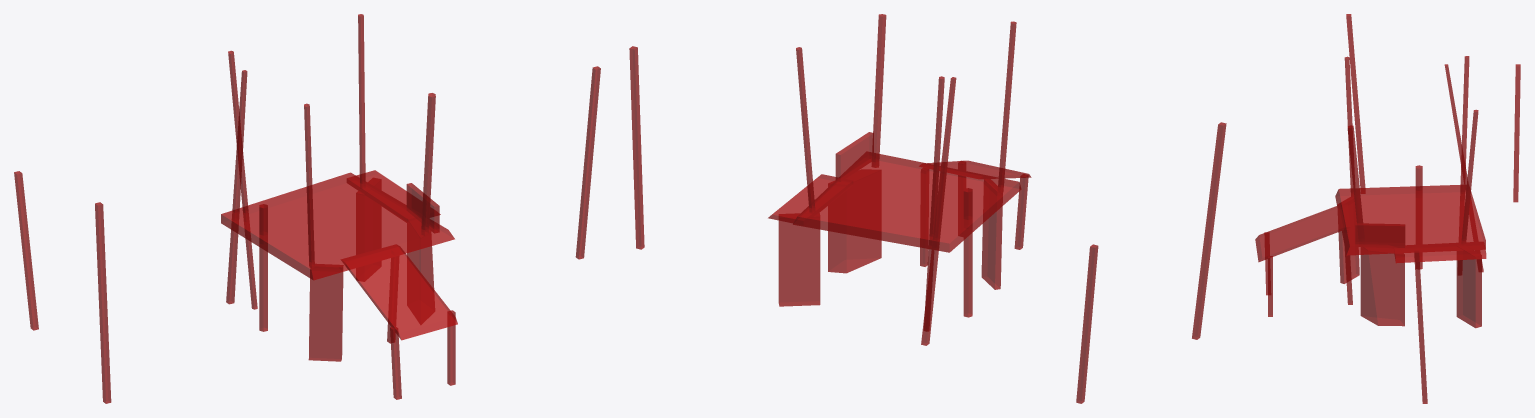
The model's file is SM_Bld_Camp_Tent_05_Collision.fbx.
The picture shows the model from 3 angles, left to right: view 1: azimuth 30°, elevation 25°; view 2: azimuth 150°, elevation 25°; view 3: azimuth 270°, elevation 25°; orthographic projection. The views are drawn at different scales.
Visible parts, largest first — view 1: SM_Bld_Camp_Tent_05_Collision; view 2: SM_Bld_Camp_Tent_05_Collision; view 3: SM_Bld_Camp_Tent_05_Collision.
Boxes of the visible parts, x1,y1,x2,y2 form: SM_Bld_Camp_Tent_05_Collision: [14, 14, 600, 403]; SM_Bld_Camp_Tent_05_Collision: [629, 14, 1226, 403]; SM_Bld_Camp_Tent_05_Collision: [1255, 14, 1520, 403].
Bounding box in the file's own units: 1868 × 881 × 964.
